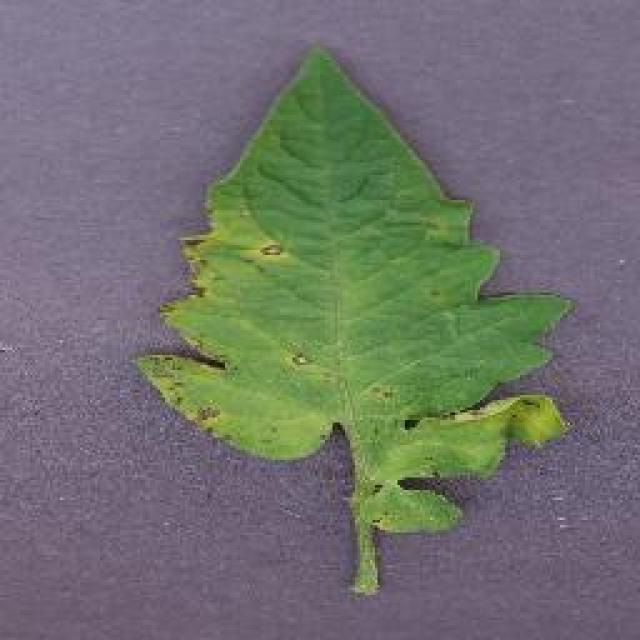Tomato___Septoria_leaf_spot: (138, 50, 568, 592)
